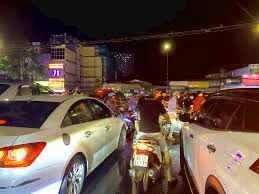Bien-so: (132, 154, 148, 168)
